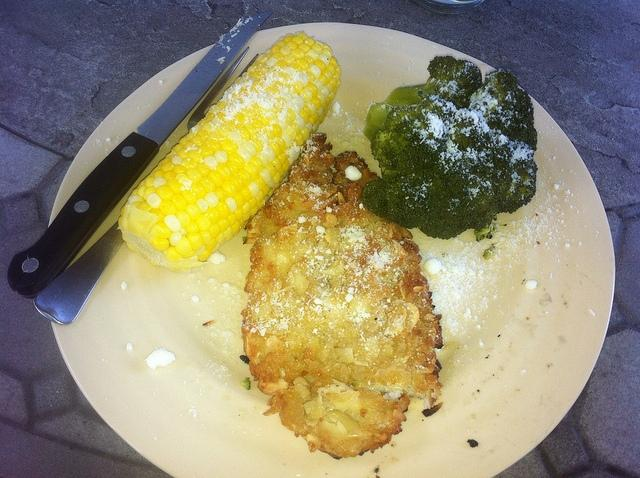broccoli: (363, 56, 537, 238)
